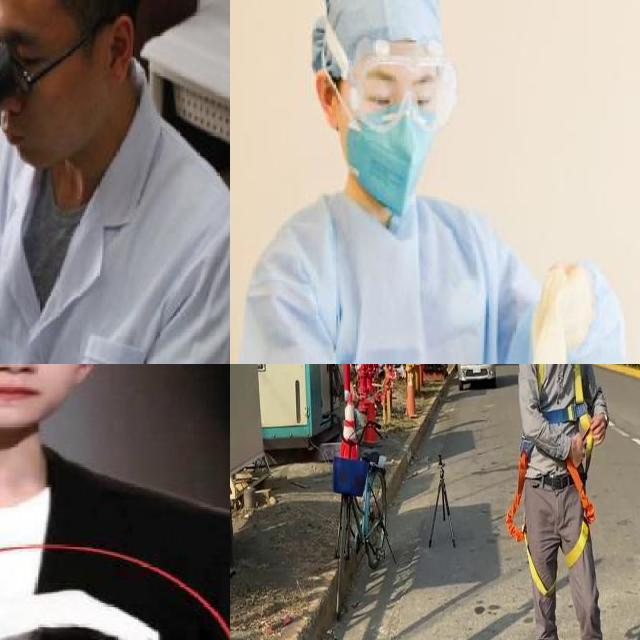Harness: (506, 448, 556, 596), (536, 364, 594, 458), (565, 459, 596, 570)
face_mask: (341, 51, 441, 210)
face_nomask: (0, 18, 91, 158), (0, 364, 78, 426)
glasses: (346, 45, 459, 133)
hand_glove: (0, 586, 171, 640)
head_nohelmet: (311, 0, 464, 74), (0, 0, 136, 15)
person: (245, 0, 616, 364), (0, 0, 230, 364), (0, 364, 230, 640)
